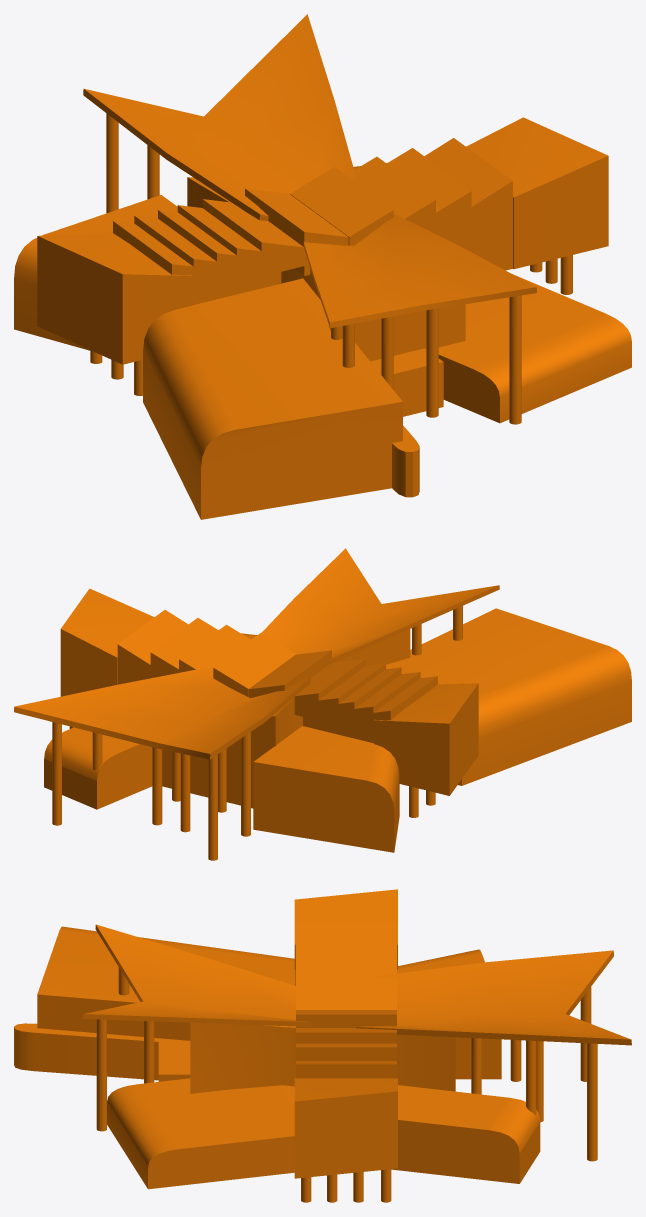
File: Sportcentrum.fbx
3 views of the same model, one above another, from view 1: azimuth 30°, elevation 25°; view 2: azimuth 150°, elevation 25°; view 3: azimuth 270°, elevation 25° (orthographic). The views are drawn at different scales.
Parts seen in each view (by area): view 1: Box007; view 2: Box007; view 3: Box007.
Part boxes in pixels (x1,y1,x2,y2): Box007: [14, 14, 631, 519]; Box007: [14, 548, 631, 860]; Box007: [14, 889, 631, 1202].
Bounding box in the file's own units: 198 × 54.37 × 229.
